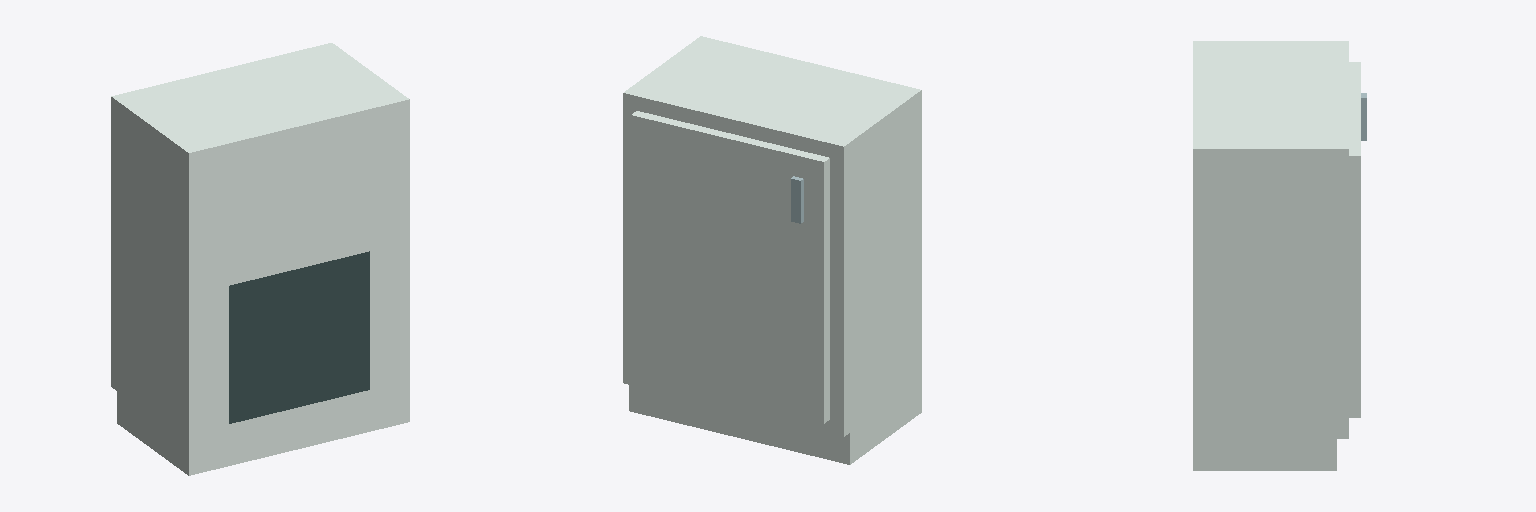
File: kitchenFridgeSmall.obj
3 views of the same model, side by side, from view 1: azimuth 30°, elevation 25°; view 2: azimuth 150°, elevation 25°; view 3: azimuth 270°, elevation 25° (orthographic).
Visible parts, largest first — view 1: kitchenFridgeSmall; view 2: kitchenFridgeSmall, doorFridge; view 3: kitchenFridgeSmall, doorFridge.
Boxes of the visible parts, box(x1,y1,x2,y2) form: kitchenFridgeSmall: box(111, 43, 409, 475); kitchenFridgeSmall: box(623, 36, 921, 464); doorFridge: box(631, 111, 829, 423); kitchenFridgeSmall: box(1193, 41, 1348, 470); doorFridge: box(1349, 62, 1366, 417).
Bounding box in the file's own units: 0.43 × 0.6002 × 0.2919.